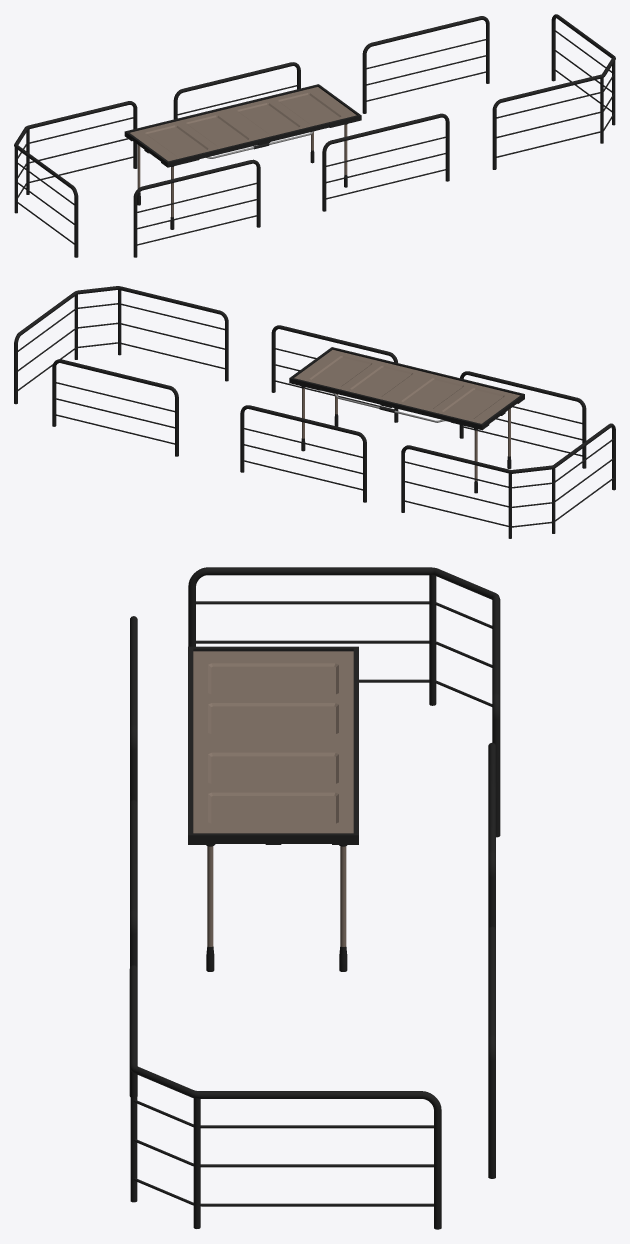
Rendered from 音乐现场_围栏+桌.fbx.
The picture shows the model from 3 angles, top to bottom: view 1: azimuth 30°, elevation 25°; view 2: azimuth 150°, elevation 25°; view 3: azimuth 270°, elevation 25°; orthographic projection. The views are drawn at different scales.
Parts seen in each view (by area): view 1: 音乐现场_桌子_002, 音乐现场_围栏B_002, 音乐现场_围栏B_003, 音乐现场_围栏A_003, 音乐现场_围栏A_002, 音乐现场_围栏A_004, 音乐现场_围栏A_005; view 2: 音乐现场_桌子_002, 音乐现场_围栏B_002, 音乐现场_围栏B_003, 音乐现场_围栏A_004, 音乐现场_围栏A_005, 音乐现场_围栏A_003, 音乐现场_围栏A_002; view 3: 音乐现场_桌子_002, 音乐现场_围栏B_002, 音乐现场_围栏B_003, 音乐现场_围栏A_004, 音乐现场_围栏A_005, 音乐现场_围栏A_003, 音乐现场_围栏A_002.
Boxes of the visible parts, left/top/right/bottom form: 音乐现场_桌子_002: left=124, top=84, right=361, bottom=229; 音乐现场_围栏B_002: left=492, top=14, right=615, bottom=169; 音乐现场_围栏B_003: left=14, top=101, right=137, bottom=257; 音乐现场_围栏A_003: left=133, top=159, right=260, bottom=257; 音乐现场_围栏A_002: left=322, top=113, right=449, bottom=211; 音乐现场_围栏A_004: left=362, top=16, right=489, bottom=113; 音乐现场_围栏A_005: left=173, top=62, right=300, bottom=119; 音乐现场_桌子_002: left=289, top=347, right=524, bottom=493; 音乐现场_围栏B_002: left=14, top=286, right=228, bottom=404; 音乐现场_围栏B_003: left=401, top=423, right=615, bottom=538; 音乐现场_围栏A_004: left=52, top=359, right=178, bottom=456; 音乐现场_围栏A_005: left=240, top=405, right=366, bottom=502; 音乐现场_围栏A_003: left=459, top=371, right=586, bottom=468; 音乐现场_围栏A_002: left=271, top=325, right=398, bottom=422; 音乐现场_桌子_002: left=188, top=646, right=358, bottom=971; 音乐现场_围栏B_002: left=129, top=965, right=441, bottom=1229; 音乐现场_围栏B_003: left=188, top=567, right=500, bottom=837; 音乐现场_围栏A_004: left=488, top=926, right=495, bottom=1178; 音乐现场_围栏A_005: left=488, top=742, right=495, bottom=928; 音乐现场_围栏A_003: left=130, top=616, right=137, bottom=801; 音乐现场_围栏A_002: left=130, top=799, right=137, bottom=967.
Size of the model in its own units: 73.29 by 9.42 by 21.77.
